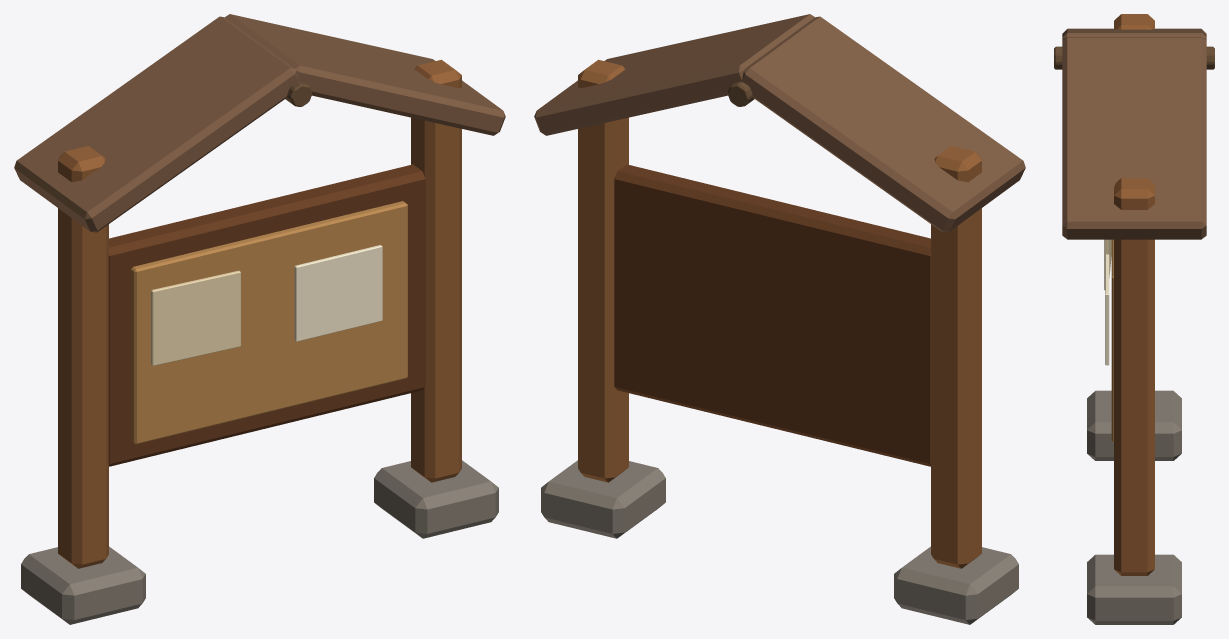
3 views of the same model, side by side, from view 1: azimuth 30°, elevation 25°; view 2: azimuth 150°, elevation 25°; view 3: azimuth 270°, elevation 25° (orthographic). The views are drawn at different scales.
Visible parts, largest first — view 1: WK_RoofedNoticeboard_LOD2_Compact; view 2: WK_RoofedNoticeboard_LOD2_Compact; view 3: WK_RoofedNoticeboard_LOD2_Compact.
Part boxes in pixels (x1=…): WK_RoofedNoticeboard_LOD2_Compact: x1=14, y1=14, x2=505, y2=624; WK_RoofedNoticeboard_LOD2_Compact: x1=534, y1=14, x2=1025, y2=624; WK_RoofedNoticeboard_LOD2_Compact: x1=1054, y1=14, x2=1214, y2=624.
Bounding box in the file's own units: 2.92 × 3.31 × 0.98.
